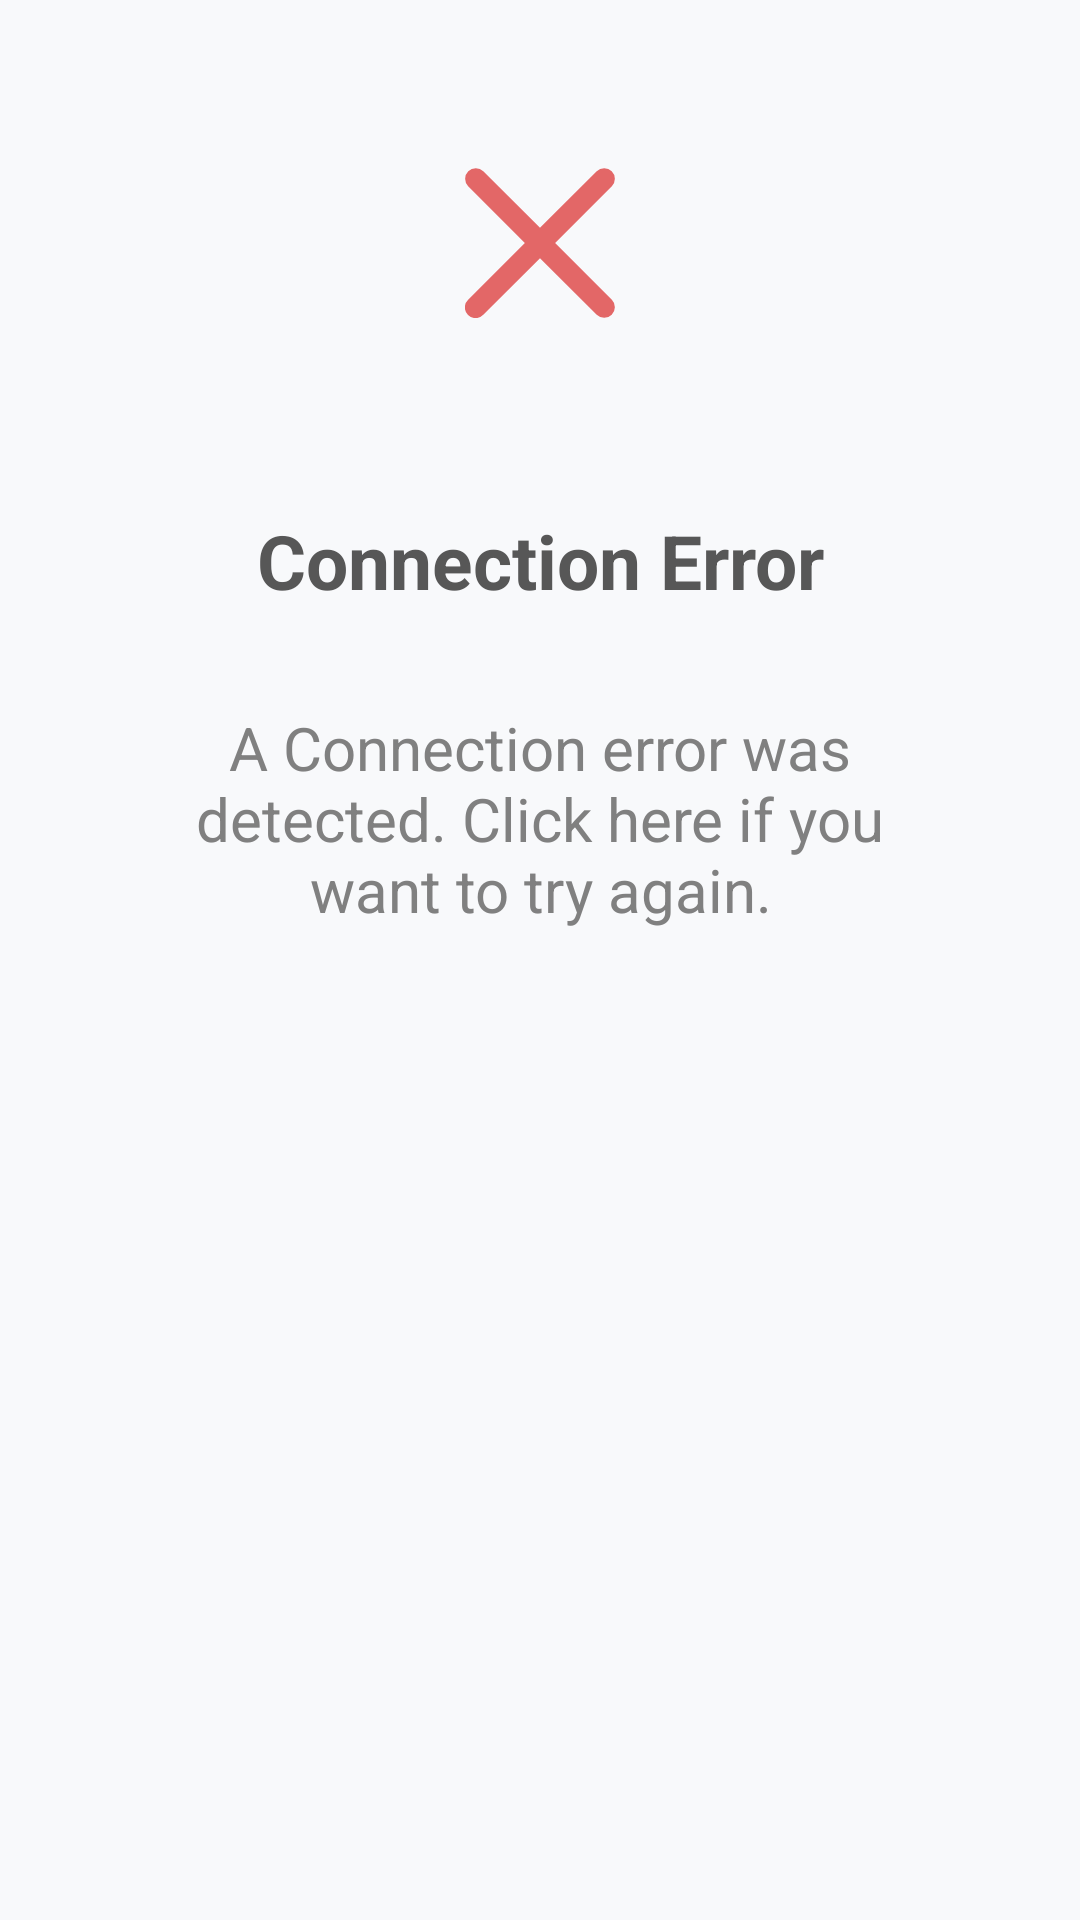

Locate icon controls on the screen. Image size 1080px×1920px, boxes as [x1=x1, y1=y1, x2=x2, y2=y2].
Error Image: [x1=465, y1=168, x2=615, y2=318]
